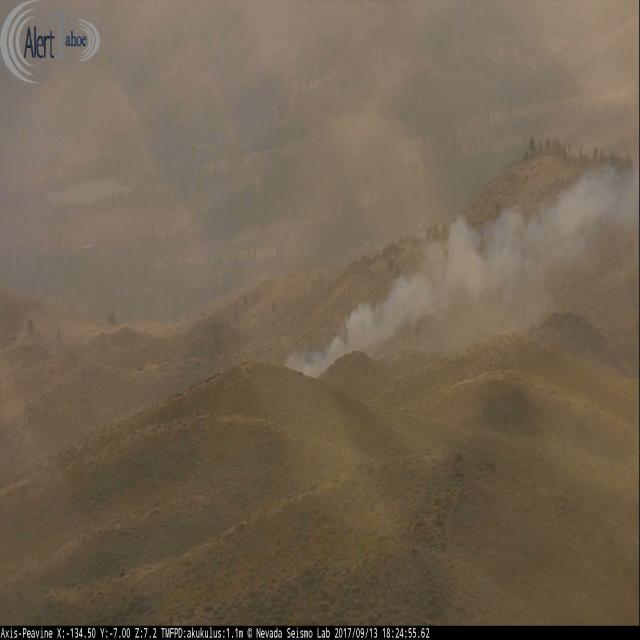smoke: (283, 158, 640, 373)
